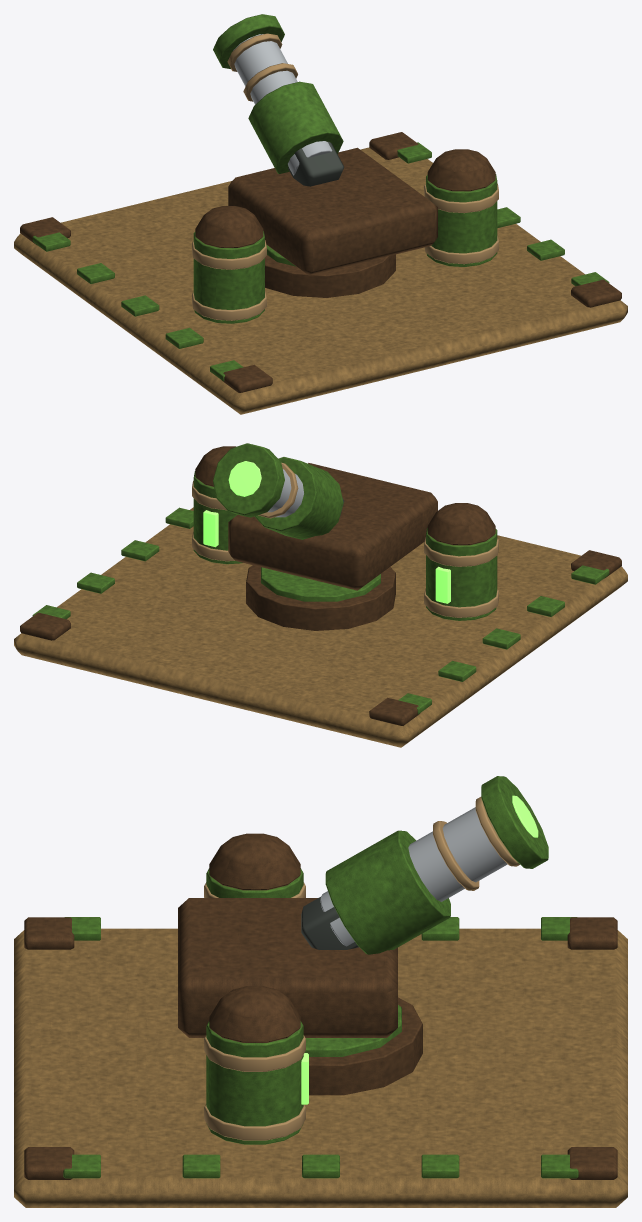
The model's file is vael_lanceur_de_spores.gltf.
3 renders of one model, top to bottom at view 1: azimuth 30°, elevation 25°; view 2: azimuth 150°, elevation 25°; view 3: azimuth 270°, elevation 25°, orthographic. The views are drawn at different scales.
Visible parts, largest first — view 1: Root.016_Geometry, TurretYaw.004_Geometry, GunRecoil.002_Geometry, GunPitch.004_Geometry; view 2: Root.016_Geometry, TurretYaw.004_Geometry, GunRecoil.002_Geometry; view 3: Root.016_Geometry, TurretYaw.004_Geometry, GunRecoil.002_Geometry, GunPitch.004_Geometry.
Part boxes in pixels (bbox=[...]): Root.016_Geometry: bbox=[14, 132, 627, 414]; TurretYaw.004_Geometry: bbox=[228, 147, 437, 275]; GunRecoil.002_Geometry: bbox=[213, 14, 343, 175]; GunPitch.004_Geometry: bbox=[288, 141, 344, 186]; Root.016_Geometry: bbox=[14, 446, 627, 747]; TurretYaw.004_Geometry: bbox=[228, 463, 437, 590]; GunRecoil.002_Geometry: bbox=[213, 443, 343, 539]; Root.016_Geometry: bbox=[14, 833, 627, 1207]; TurretYaw.004_Geometry: bbox=[178, 898, 397, 1037]; GunRecoil.002_Geometry: bbox=[320, 776, 548, 954]; GunPitch.004_Geometry: bbox=[301, 897, 358, 949].
Bounding box in the file's own units: 3.91 × 2.12 × 3.91.
7 materials, 3 textured.
